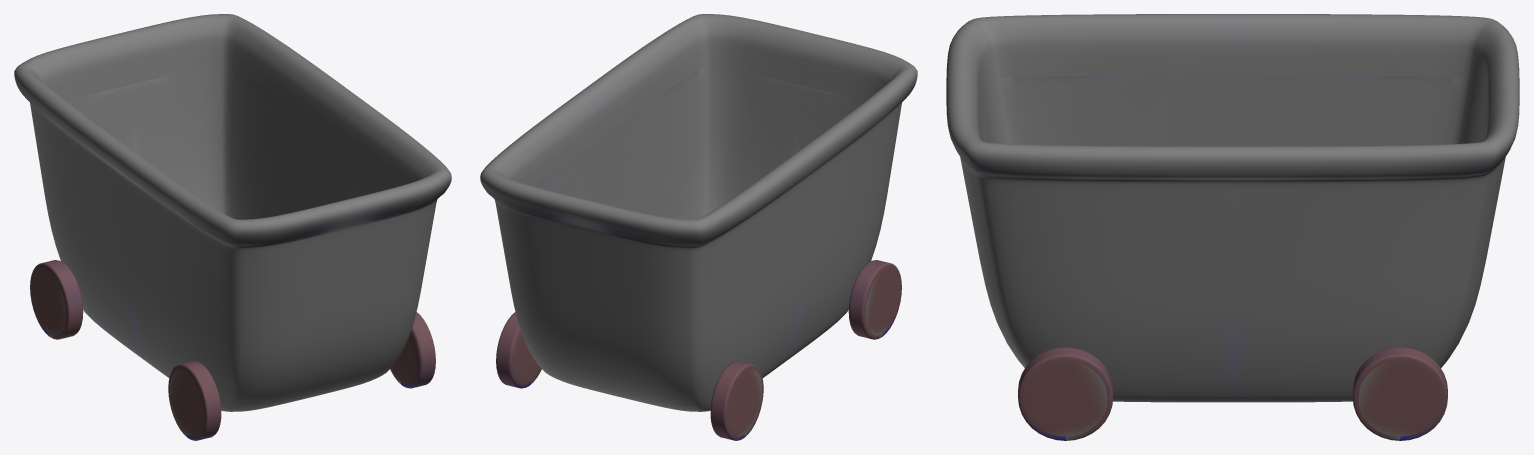
The model's file is minecart1.fbx.
3 views of the same model, side by side, from view 1: azimuth 30°, elevation 25°; view 2: azimuth 150°, elevation 25°; view 3: azimuth 270°, elevation 25° (orthographic). The views are drawn at different scales.
Parts seen in each view (by area): view 1: Cube; view 2: Cube; view 3: Cube.
Boxes of the visible parts, bbox=[...] form: Cube: bbox=[14, 14, 451, 440]; Cube: bbox=[480, 14, 917, 440]; Cube: bbox=[946, 14, 1519, 440].
Size of the model in its own units: 225 by 216 by 382.
